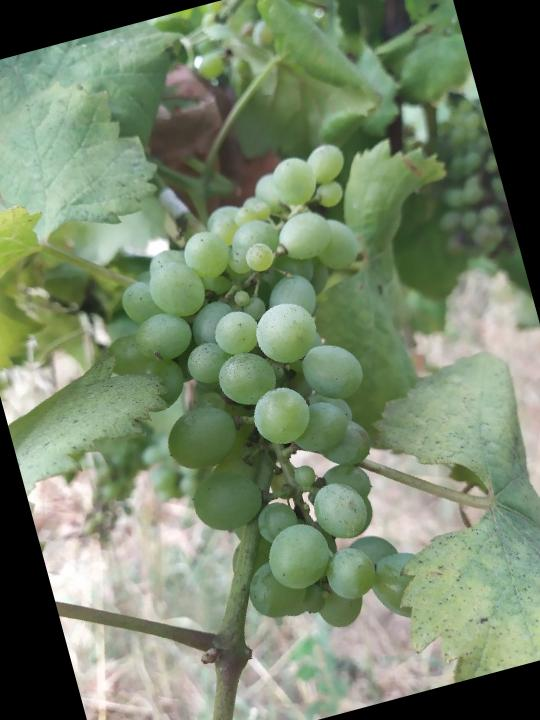grape: (70, 137, 465, 670)
